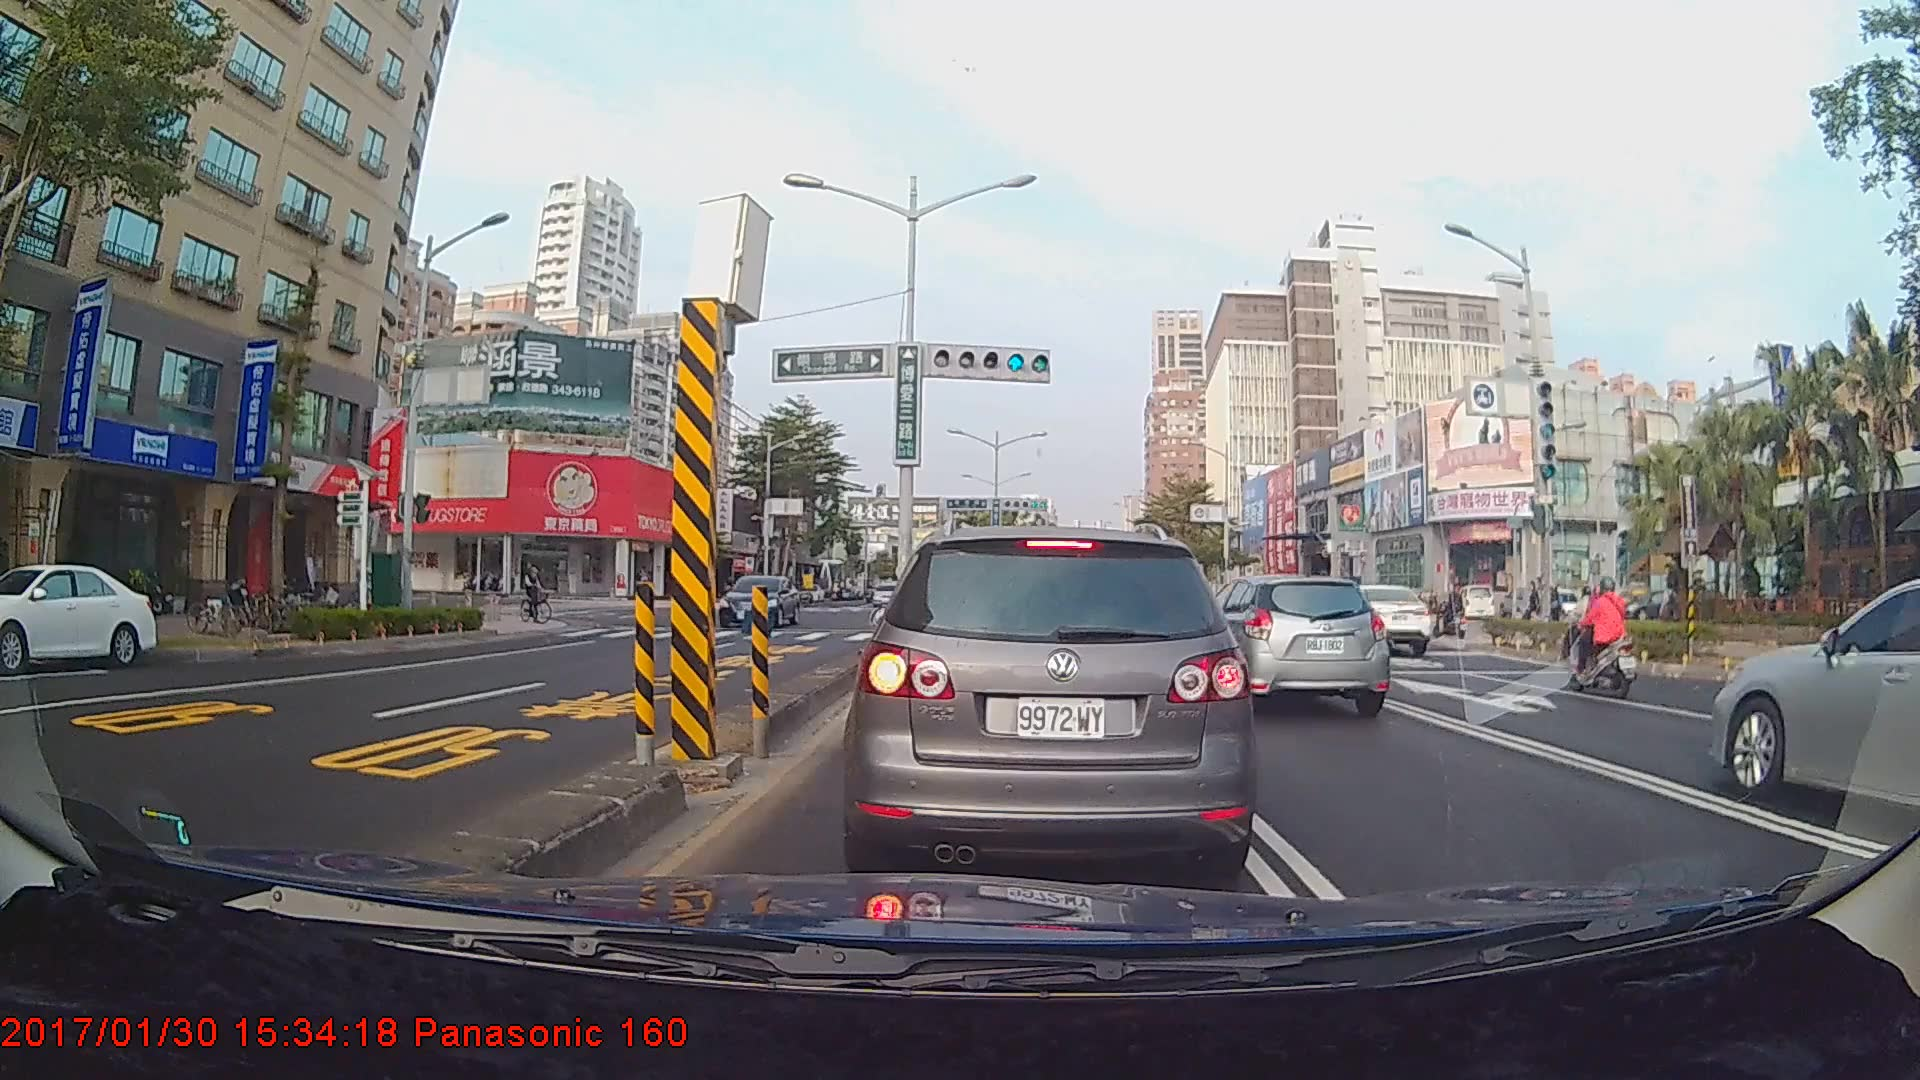pedestrian: (1658, 582, 1682, 642)
rider: (1577, 580, 1644, 704), (1553, 583, 1617, 676), (518, 559, 561, 629)
vehicle: (852, 522, 1245, 876), (1711, 572, 1919, 821), (1171, 574, 1390, 718), (0, 561, 157, 671), (1318, 582, 1429, 655), (714, 572, 801, 628)
